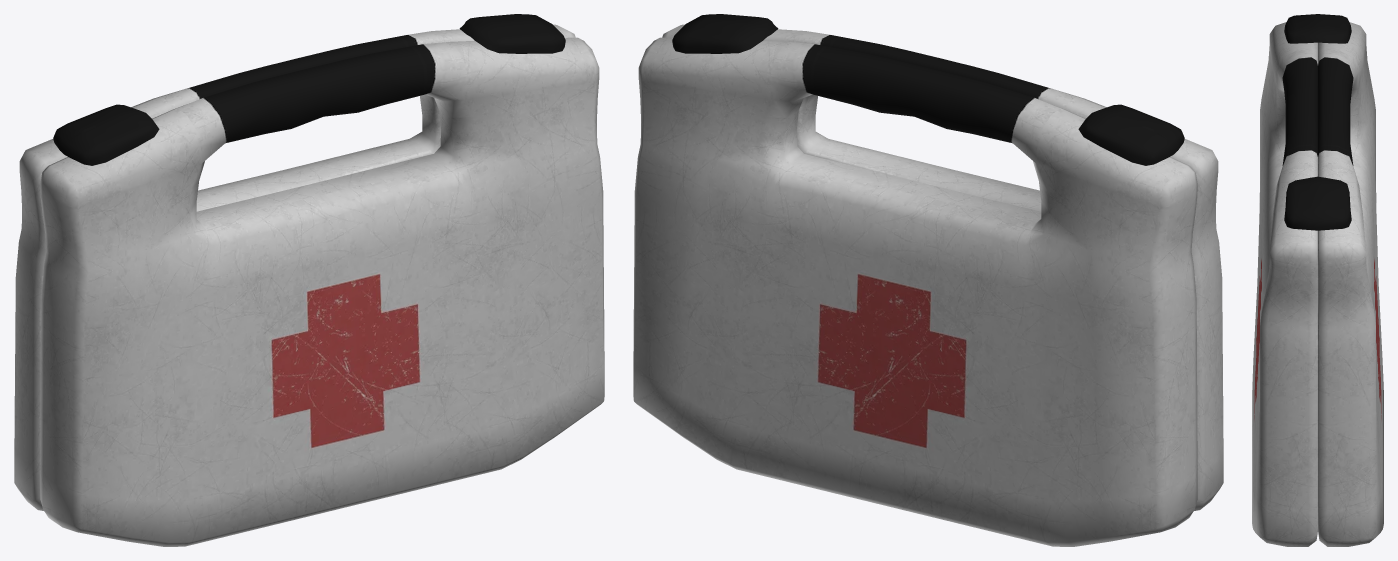
The model's file is item_med.glb.
3 renders of one model, left to right at view 1: azimuth 30°, elevation 25°; view 2: azimuth 150°, elevation 25°; view 3: azimuth 270°, elevation 25°, orthographic. The views are drawn at different scales.
Visible parts, largest first — view 1: Medkit; view 2: Medkit; view 3: Medkit.
Boxes of the visible parts, box(x1,y1,x2,y2) form: Medkit: box(14, 14, 604, 546); Medkit: box(633, 14, 1223, 546); Medkit: box(1252, 14, 1383, 546).
Size of the model in its own units: 0.3489 by 0.26 by 0.0844.
Materials: 1 (1 with a texture image).
